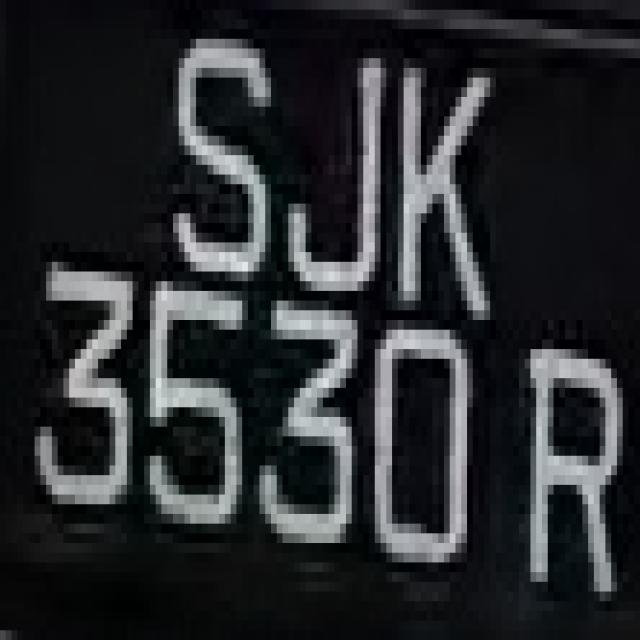0: (374, 291, 478, 572)
3: (254, 262, 363, 562), (34, 223, 132, 533)
5: (133, 242, 248, 543)
J: (271, 38, 404, 300)
K: (375, 19, 484, 320)
R: (519, 291, 623, 601)
S: (167, 29, 271, 272)
